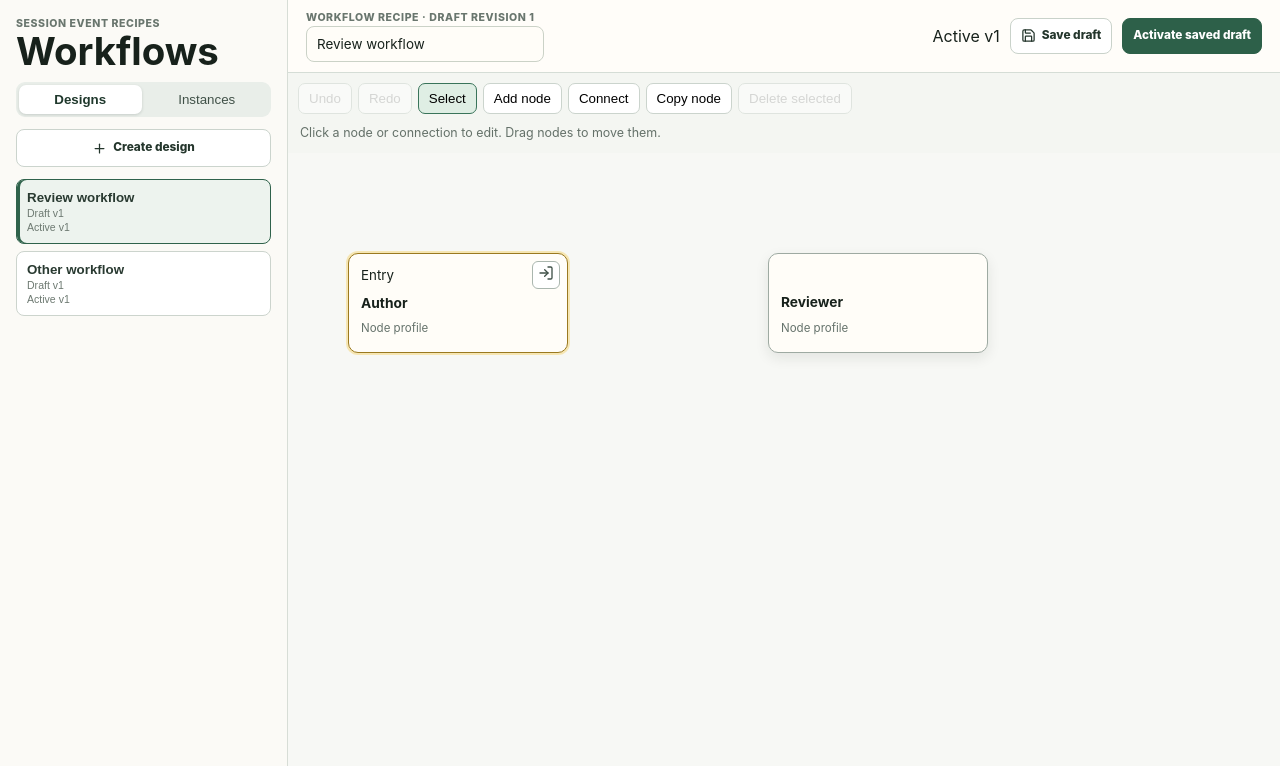
limits node choices to the selected profile and shows a removed default
Click the button with aria-label "Configure Author" at (458, 303), box x1=349 y1=254 x2=567 y2=352
(page scrolled)
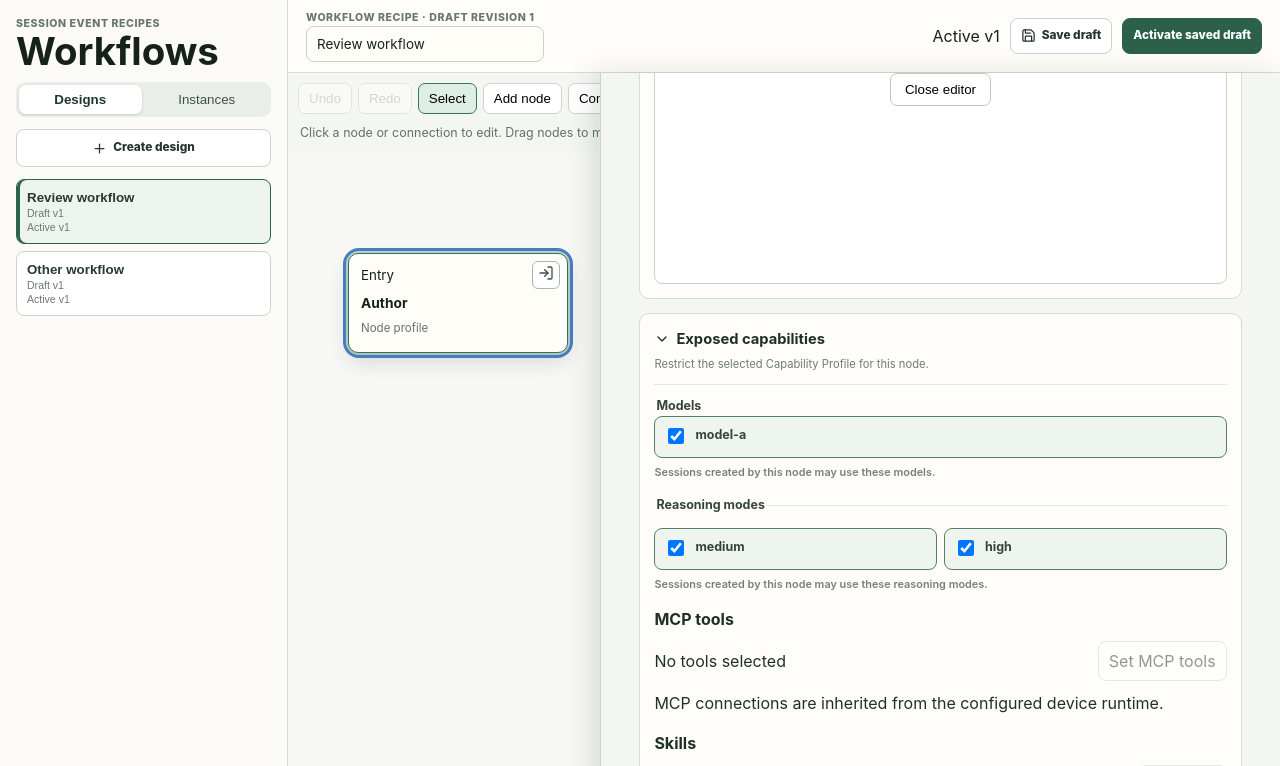
Click the checkbox labelled "model-a" at (676, 436), box x1=668 y1=428 x2=684 y2=444
(page scrolled)
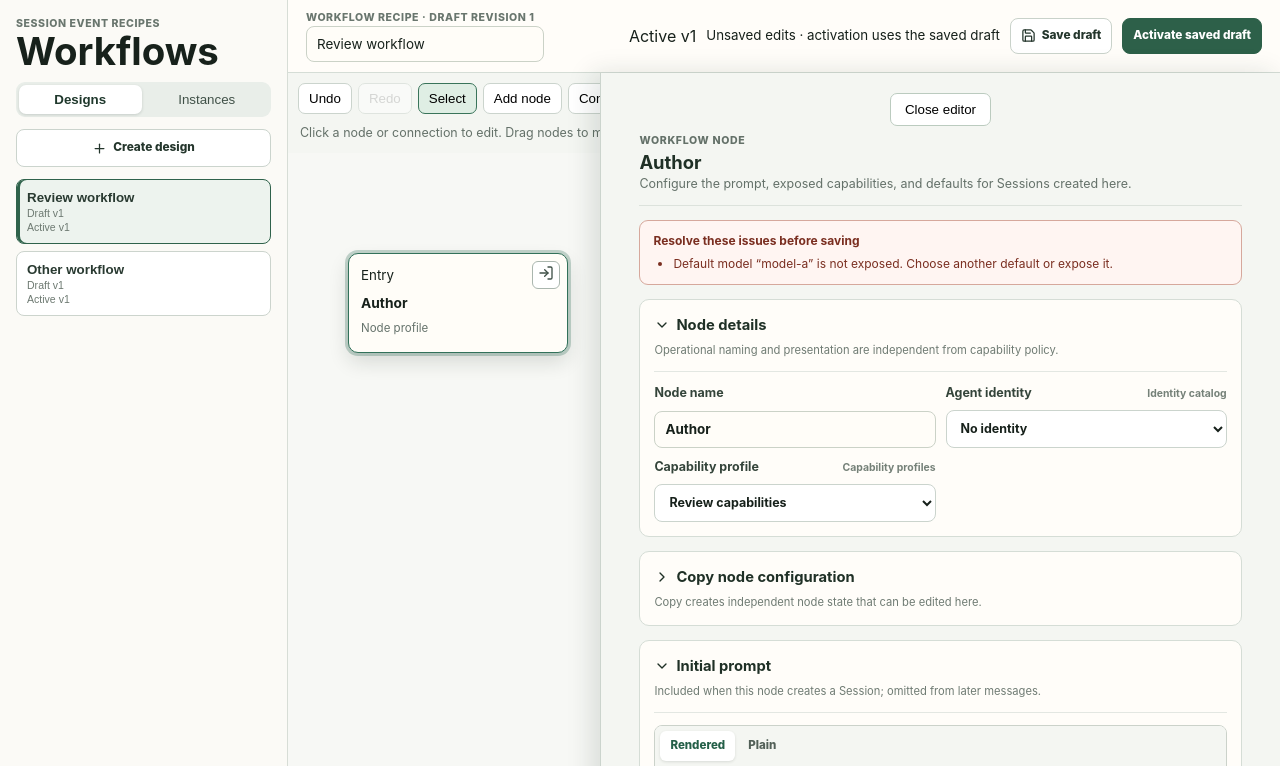
Expected: the list item is shown, x1=673 y1=256 x2=1113 y2=271
